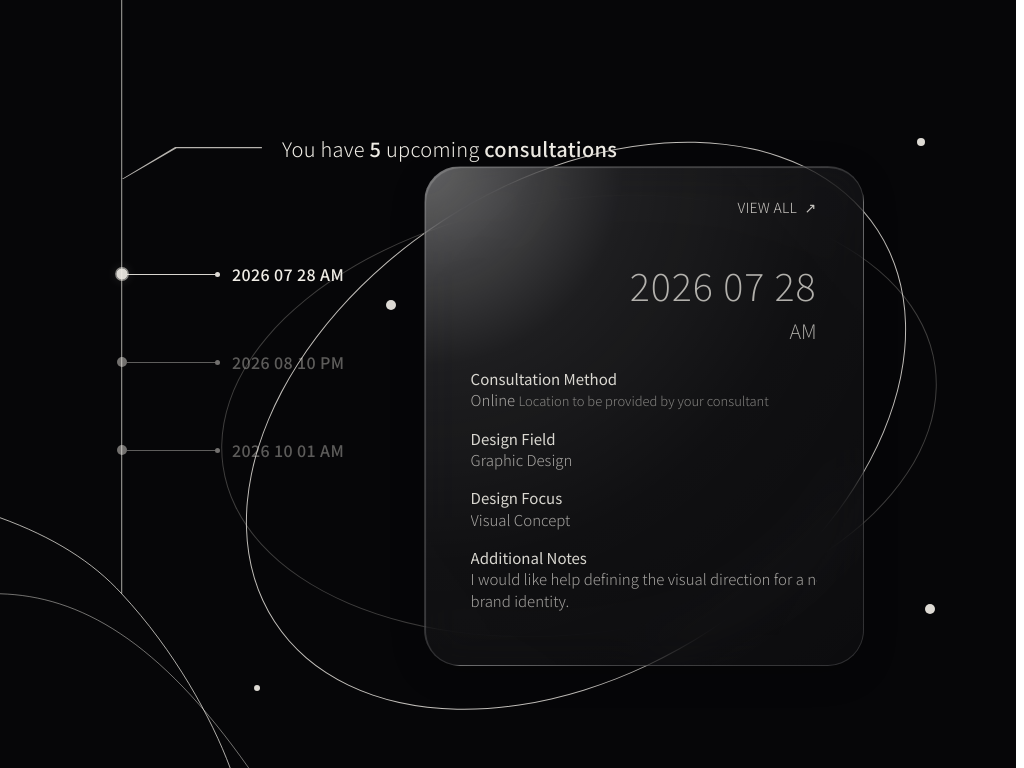
Test: AccountConsultations › selects another reservation from the date timeline
Click the button with class "date-node" showing "2026 08 10 PM". click: x=332, y=362
box: [122,318,542,406]
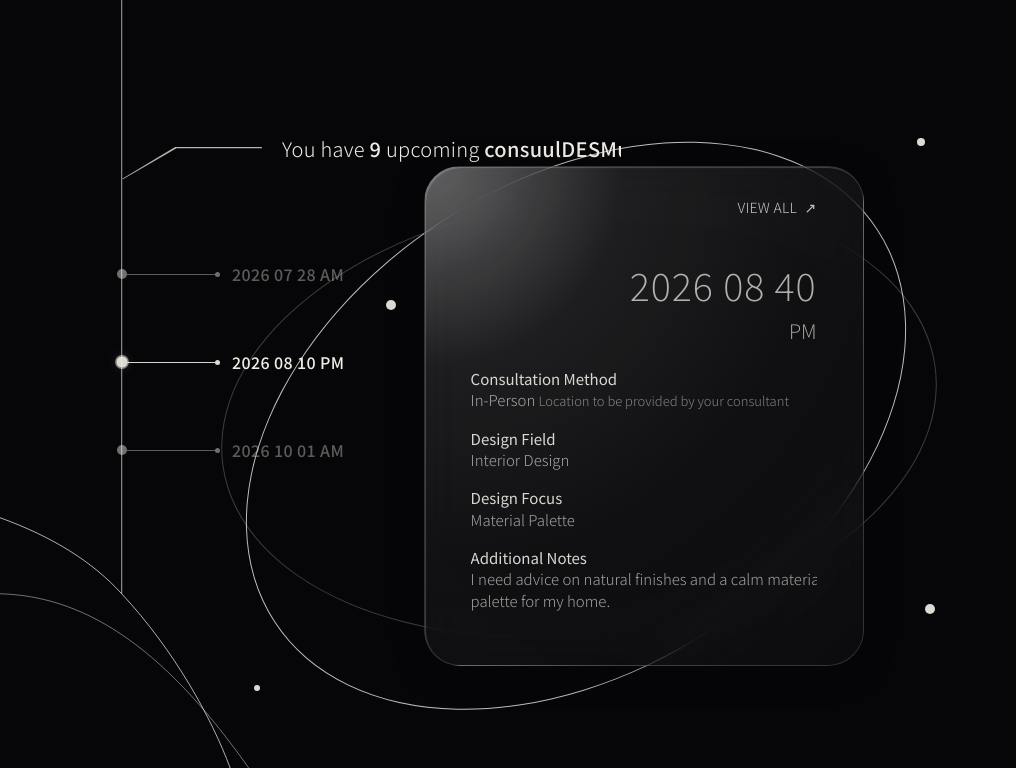
Expected: the element with class "details-panel" shows "Interior Design", [471,449,569,470]
Expected: the element with class "details-panel" shows "Material Palette", [471,509,575,530]
